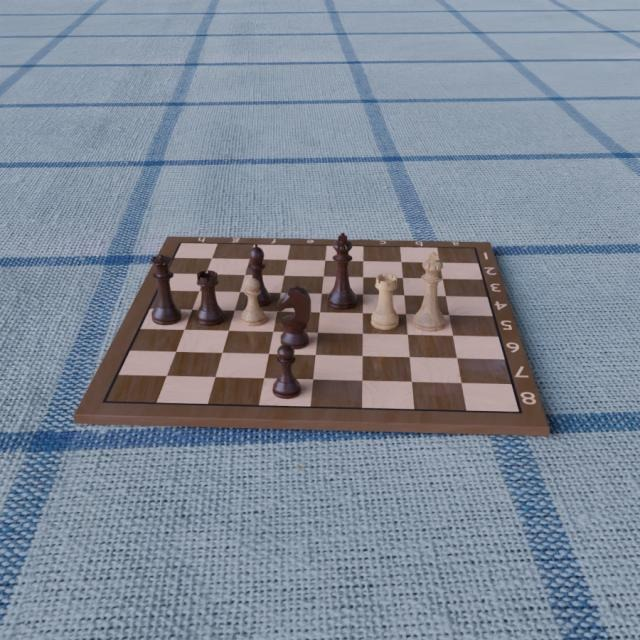black-bishop: (243, 242, 273, 308)
black-king: (326, 230, 358, 309)
black-knight: (275, 286, 312, 350)
black-pawn: (272, 342, 303, 399)
black-queen: (150, 253, 184, 326)
black-rook: (194, 269, 226, 326)
white-king: (412, 251, 448, 332)
white-pawn: (240, 277, 268, 327)
white-rook: (370, 273, 400, 331)
